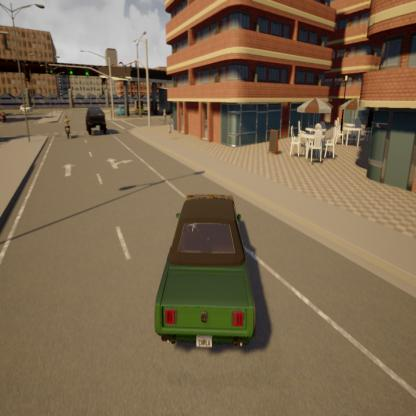Cars: (148, 186, 265, 360), (83, 104, 108, 138)
